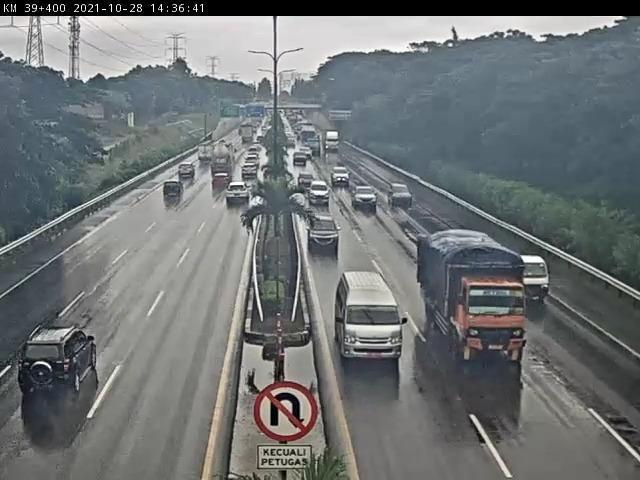bus: (340, 276, 398, 364)
car: (33, 322, 101, 393), (526, 255, 553, 309), (308, 217, 344, 255), (356, 180, 380, 222), (157, 175, 187, 201), (309, 182, 335, 206), (339, 163, 359, 189), (393, 183, 409, 208), (233, 185, 250, 206), (180, 160, 191, 180)
truck: (420, 232, 536, 375)
